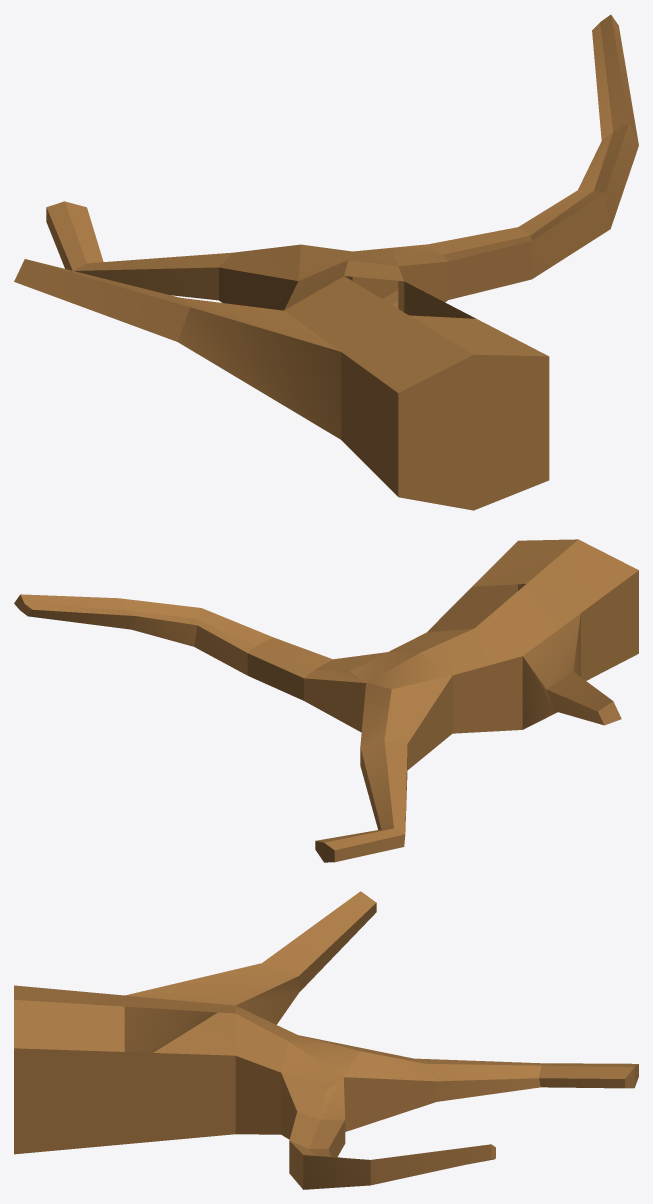
Rendered from trunk2.dae.
The picture shows the model from 3 angles, top to bottom: view 1: azimuth 30°, elevation 25°; view 2: azimuth 150°, elevation 25°; view 3: azimuth 270°, elevation 25°; orthographic projection. The views are drawn at different scales.
Parts seen in each view (by area): view 1: Brown; view 2: Brown; view 3: Brown.
Boxes of the visible parts, x1,y1,x2,y2 form: Brown: [14, 14, 638, 510]; Brown: [14, 539, 638, 862]; Brown: [14, 891, 638, 1189].
Size of the model in its own units: 0.4869 by 0.4525 by 0.1298.
